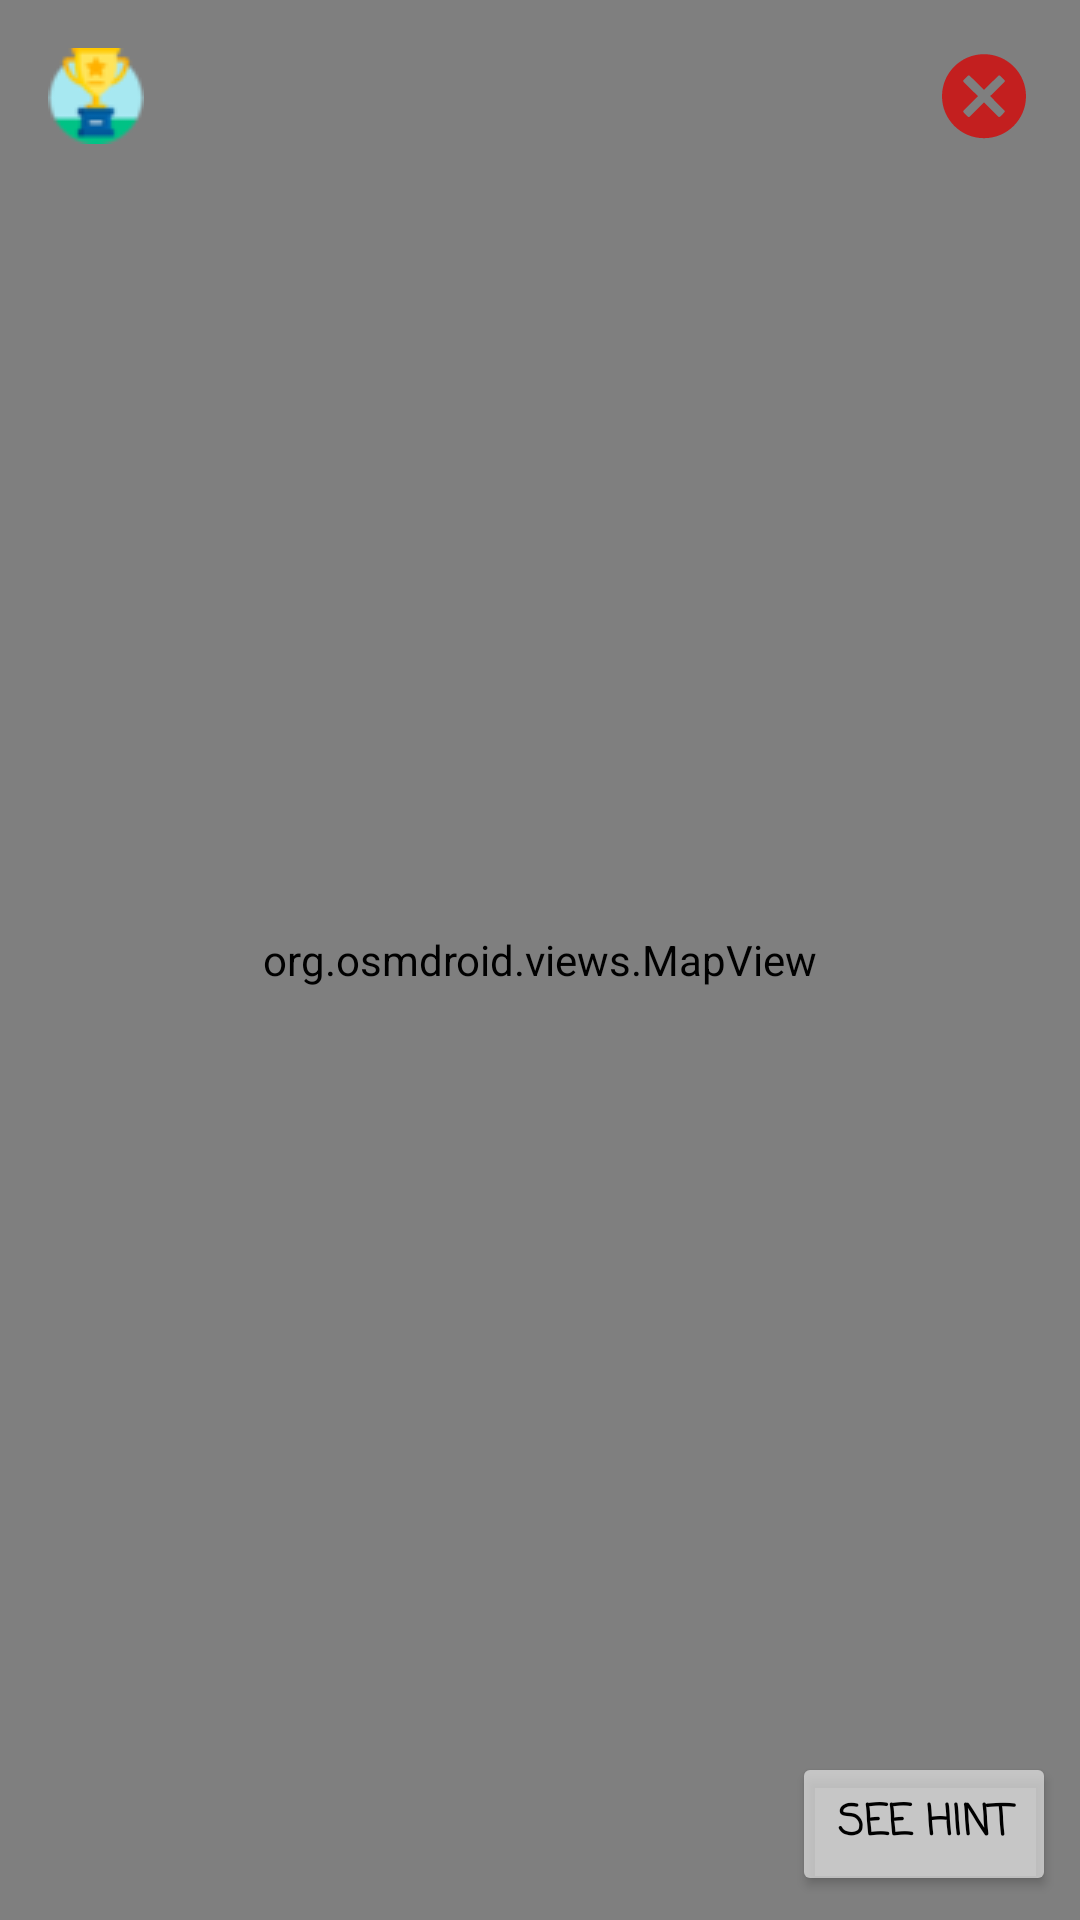

Screen size 1080w x 1920h. Icon name, then its center in pixels as point (x, y):
exit game: point (984, 96)
trophy: point (96, 96)
